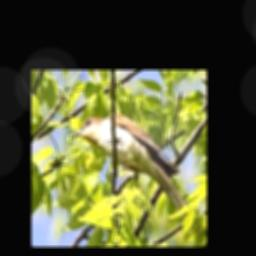Cuckoo: (70, 115, 192, 222)
